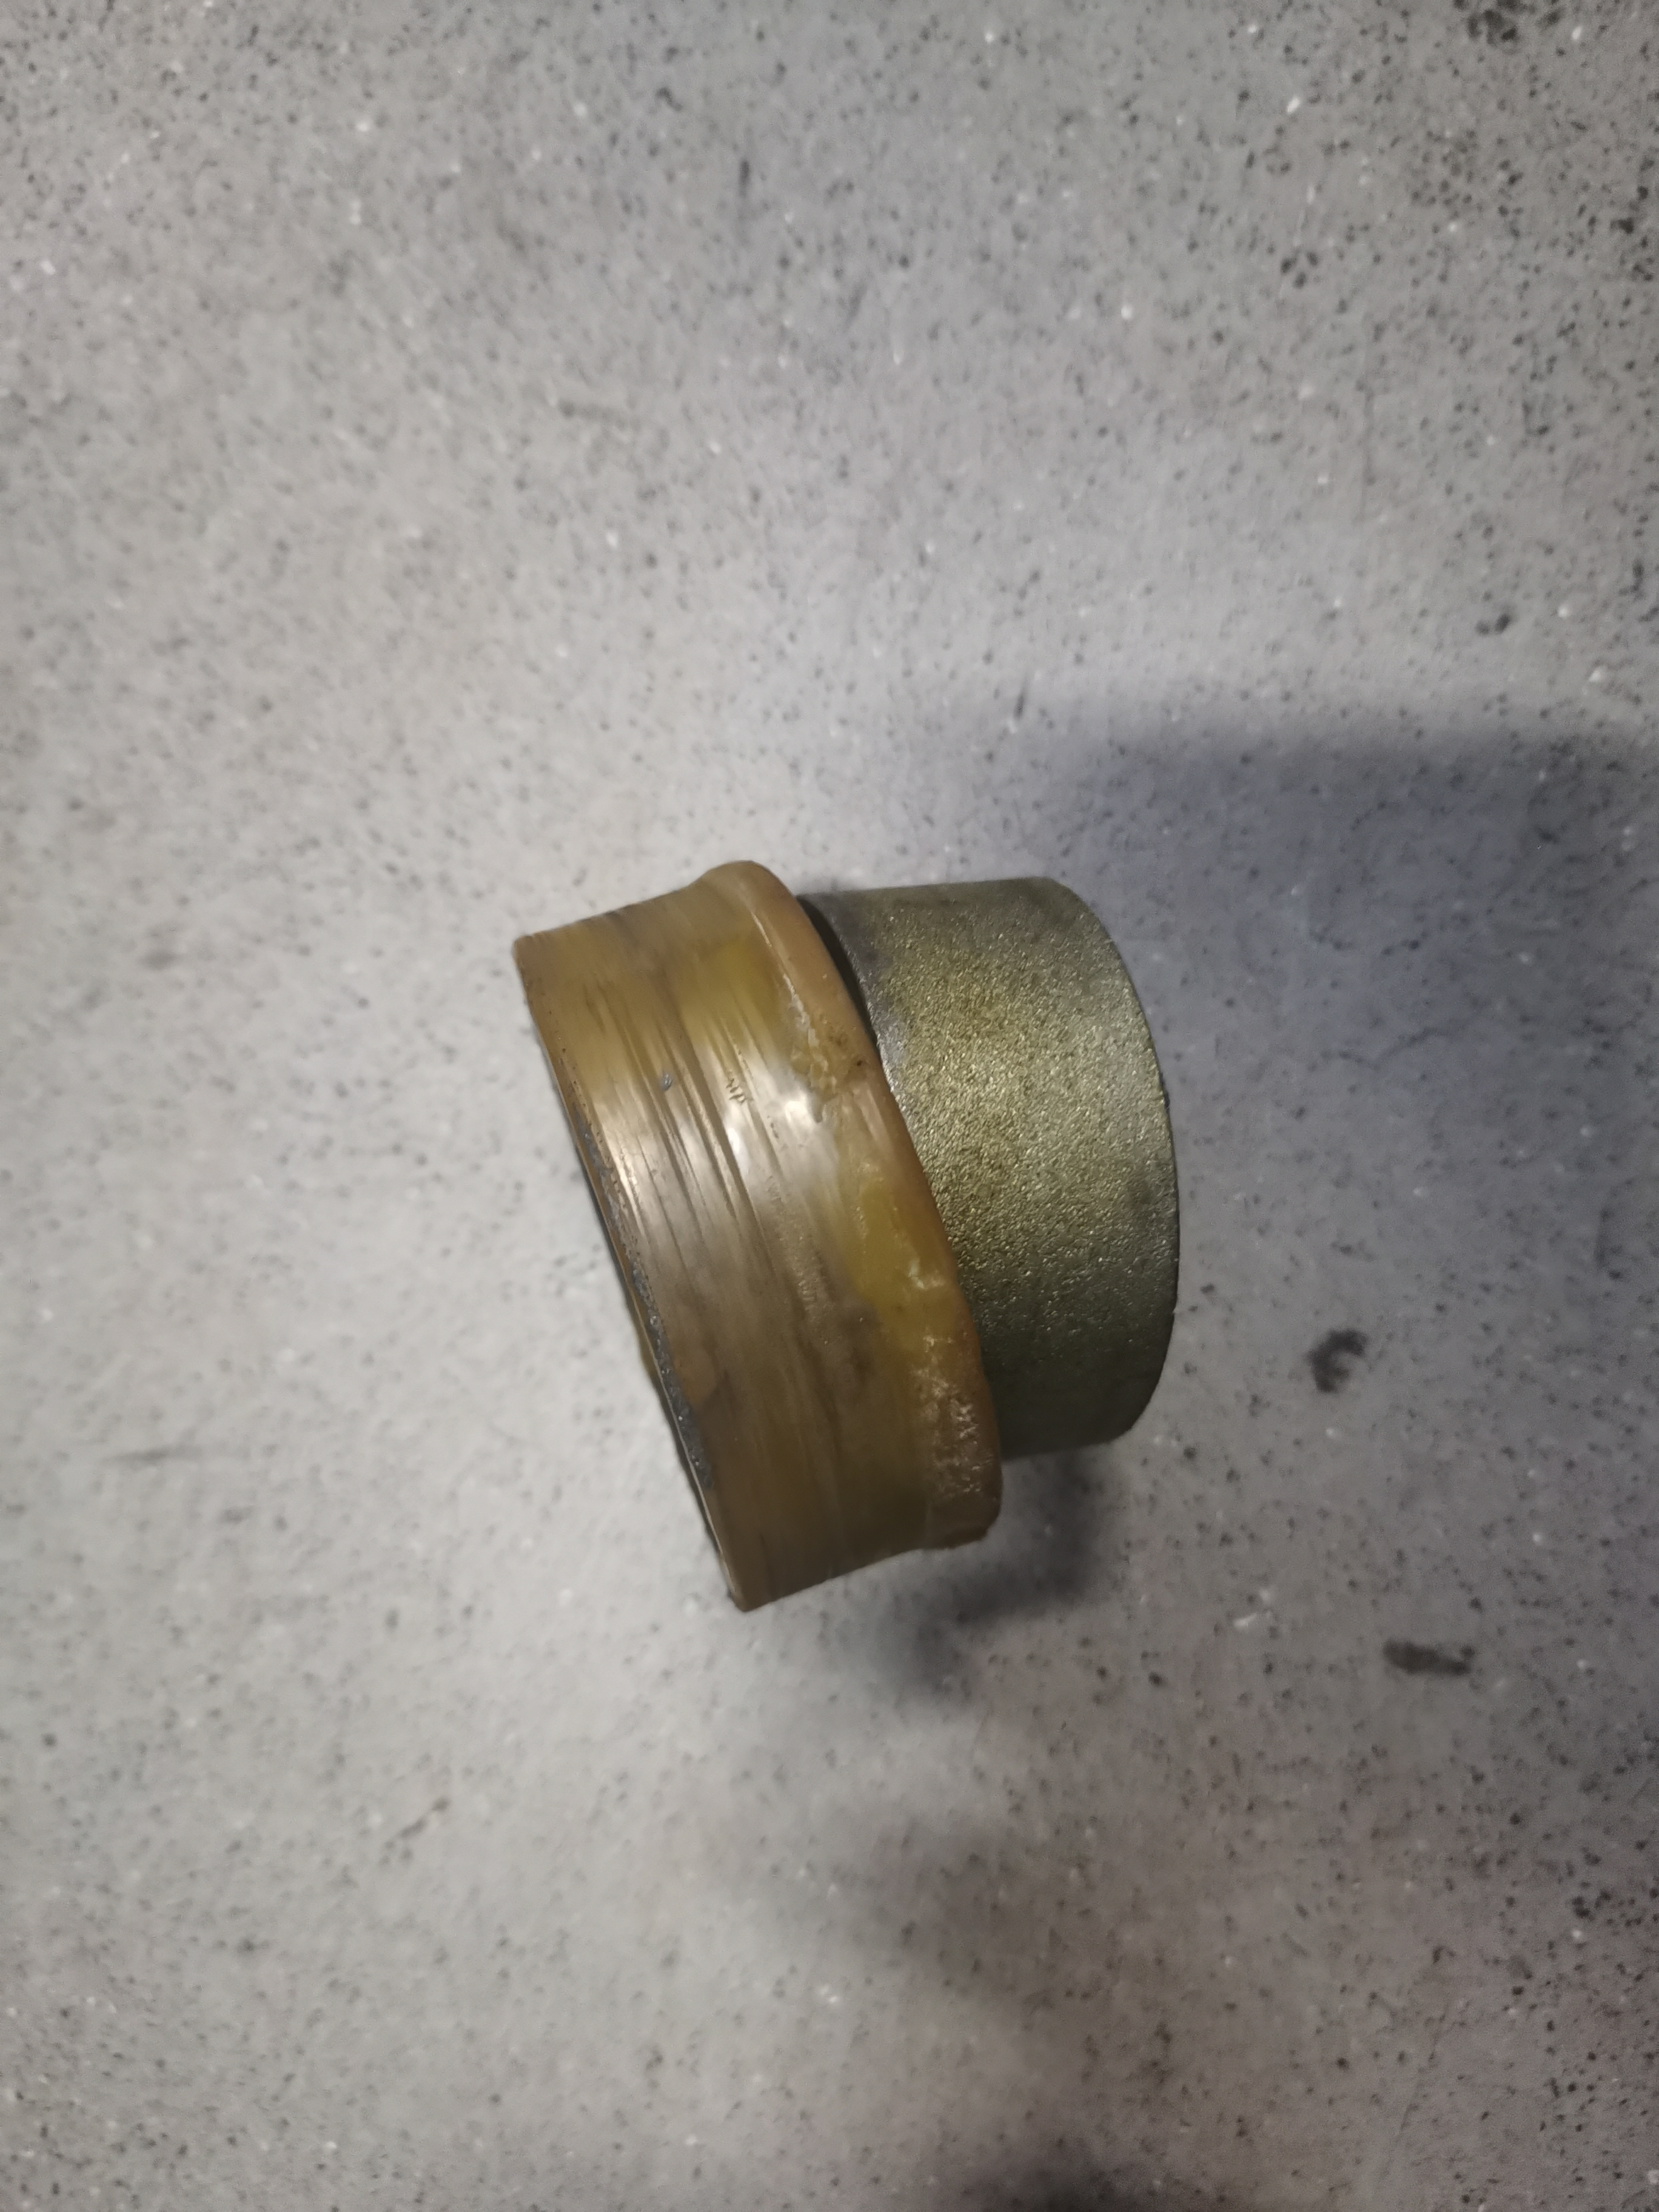bad_wheel: (422, 831, 1307, 1623)
